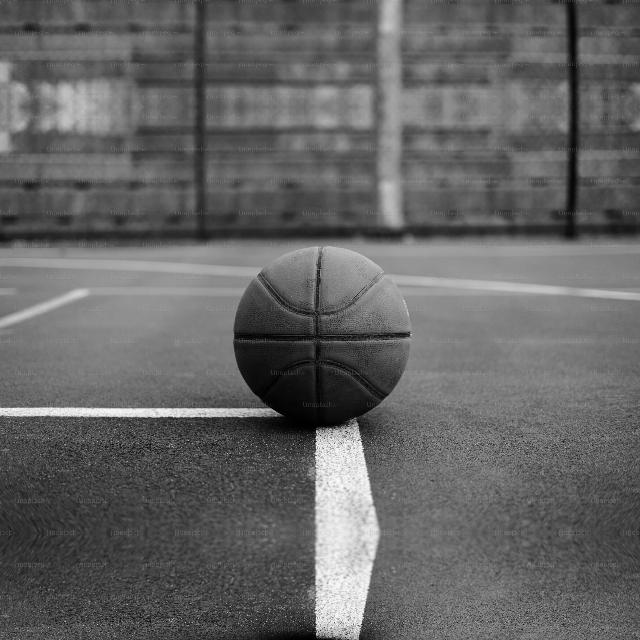ball: (233, 243, 412, 424)
